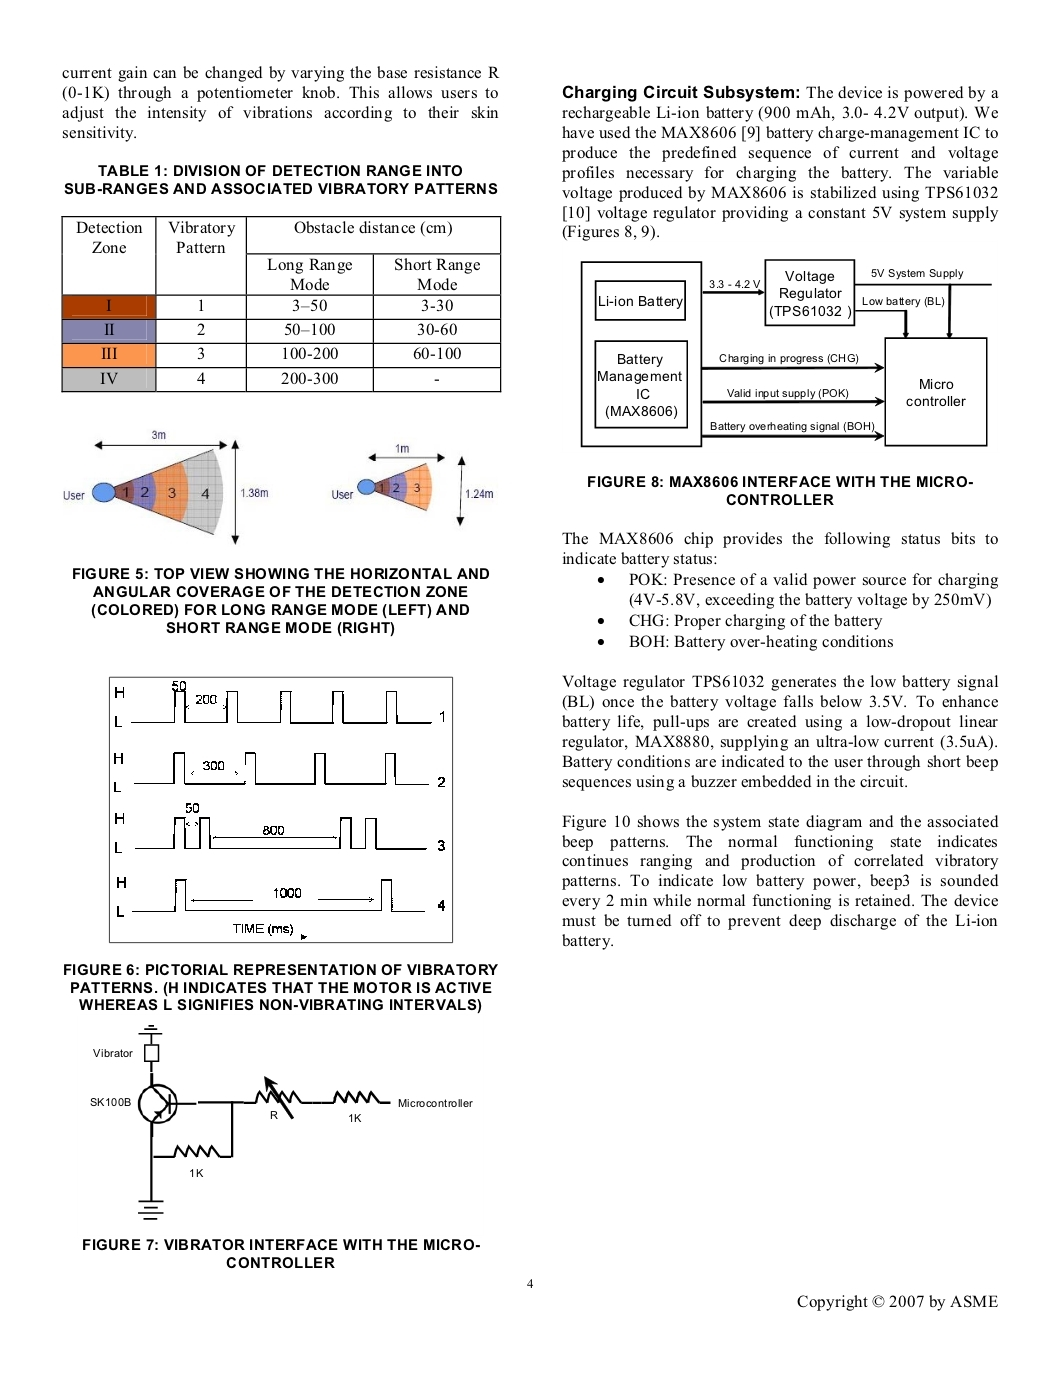Table: (61, 215, 502, 393)
figure: (108, 675, 452, 944), (580, 259, 991, 447), (90, 1025, 473, 1219), (64, 429, 491, 545)
